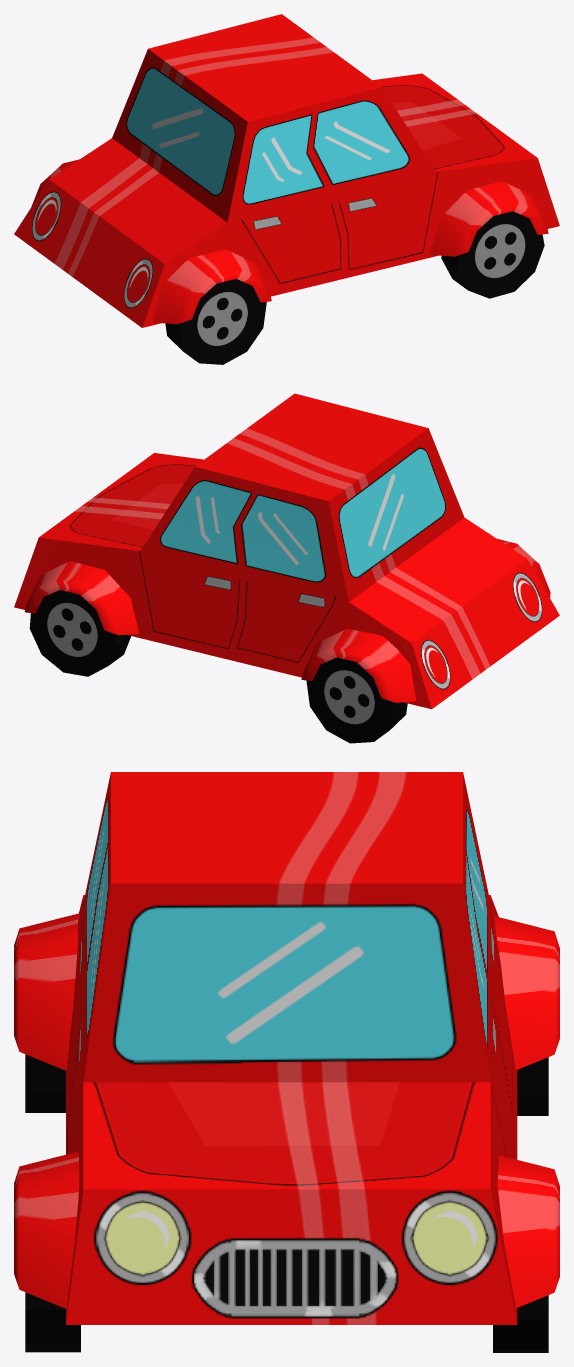
File: Car.fbx
3 renders of one model, top to bottom at view 1: azimuth 30°, elevation 25°; view 2: azimuth 150°, elevation 25°; view 3: azimuth 270°, elevation 25°, orthographic. The views are drawn at different scales.
Parts seen in each view (by area): view 1: TODOS:polySurface6; view 2: TODOS:polySurface6; view 3: TODOS:polySurface6.
Boxes of the visible parts, x1,y1,x2,y2 form: TODOS:polySurface6: [14, 14, 559, 364]; TODOS:polySurface6: [14, 393, 559, 743]; TODOS:polySurface6: [14, 772, 559, 1352].
Bounding box in the file's own units: 8.9 × 4.38 × 5.72.
